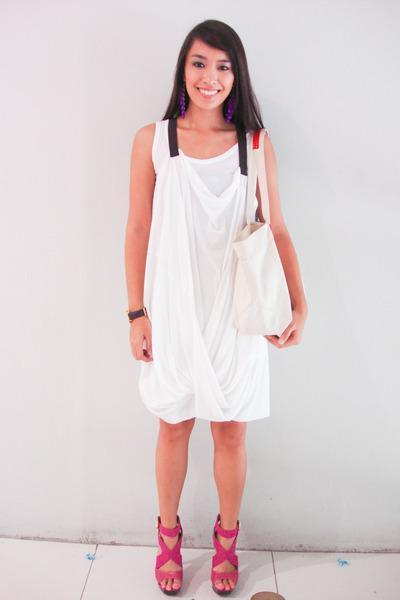dress: (128, 117, 274, 424)
